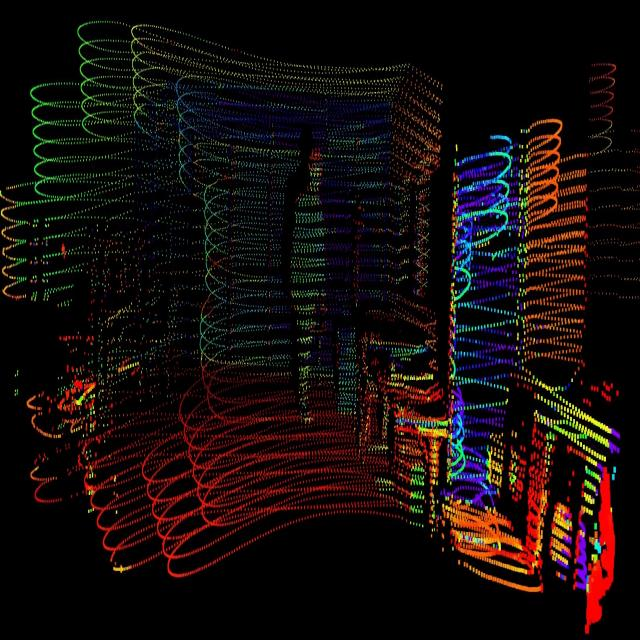human: (287, 132, 329, 434)
